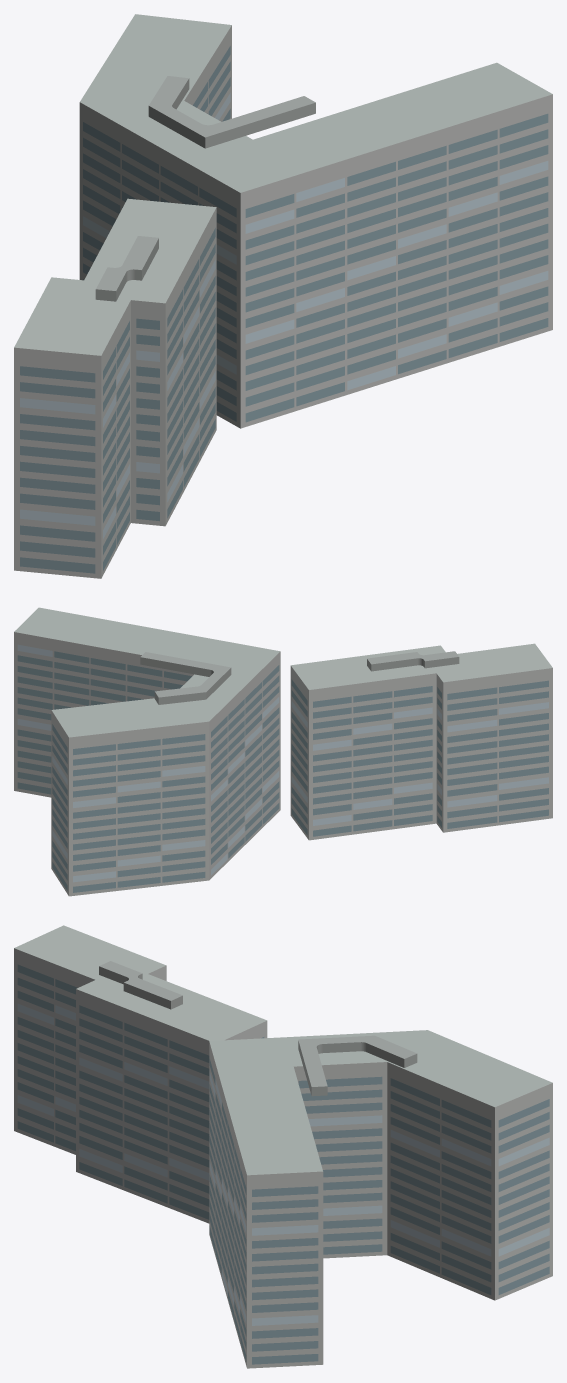
The model's file is apt-a15106001.glb.
3 renders of one model, top to bottom at view 1: azimuth 30°, elevation 25°; view 2: azimuth 150°, elevation 25°; view 3: azimuth 270°, elevation 25°, orthographic. The views are drawn at different scales.
Visible parts, largest first — view 1: apt-a15106001; view 2: apt-a15106001; view 3: apt-a15106001.
Part boxes in pixels (x1,y1,x2,y2): apt-a15106001: (14, 14, 552, 578); apt-a15106001: (14, 607, 552, 896); apt-a15106001: (14, 925, 552, 1368).
Bounding box in the file's own units: 102 × 37 × 89.3.
